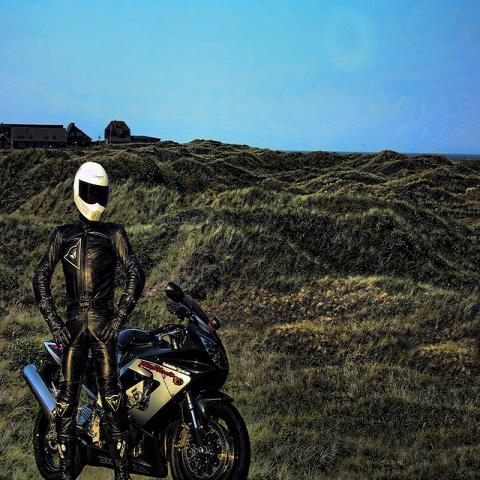motorcycle: (21, 281, 250, 479)
